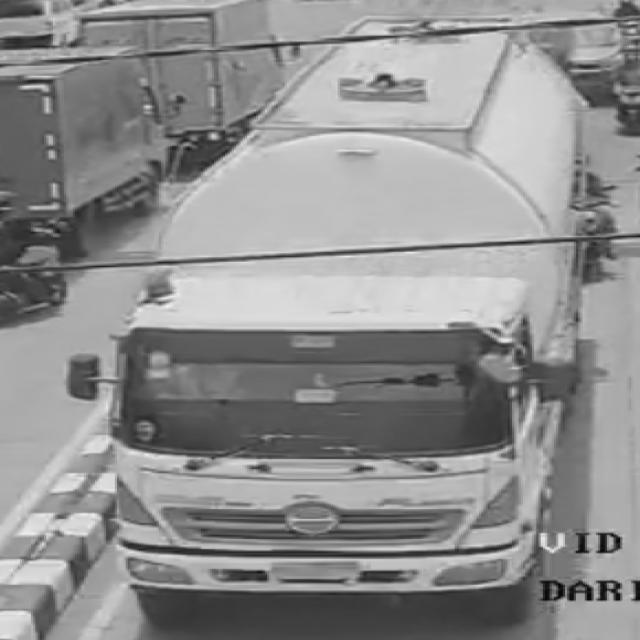Truck: (74, 46, 627, 614)
